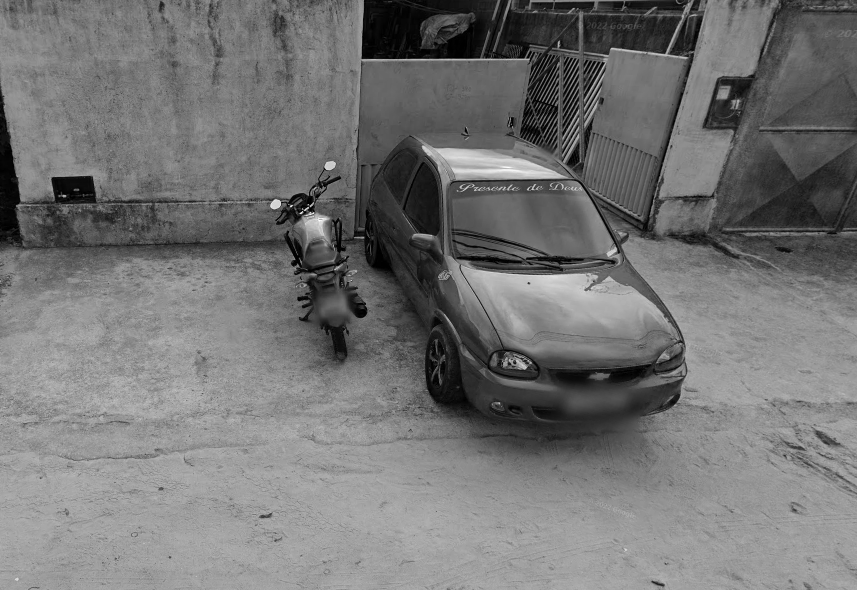car: (360, 116, 697, 445)
